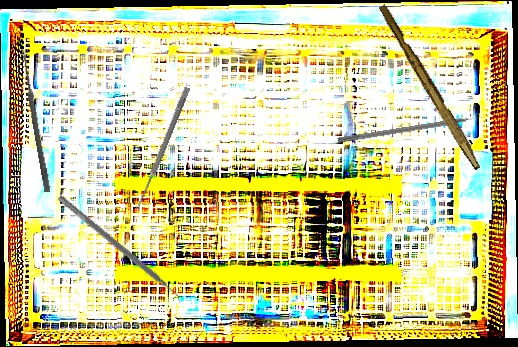Hook Surgical: (337, 114, 487, 145)
Scalpel Handle: (374, 3, 487, 171)
Spatula Surgical: (52, 194, 188, 307)
Surgical Spoon: (133, 86, 191, 213), (19, 48, 52, 193)
